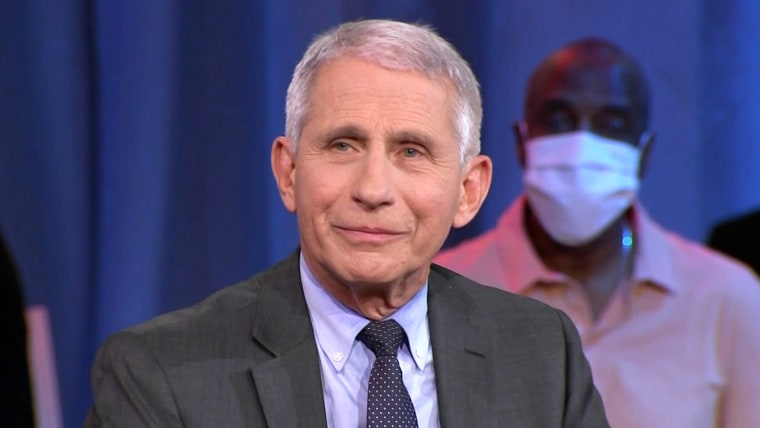with_mask: (522, 70, 648, 218)
without_mask: (294, 80, 451, 265)
